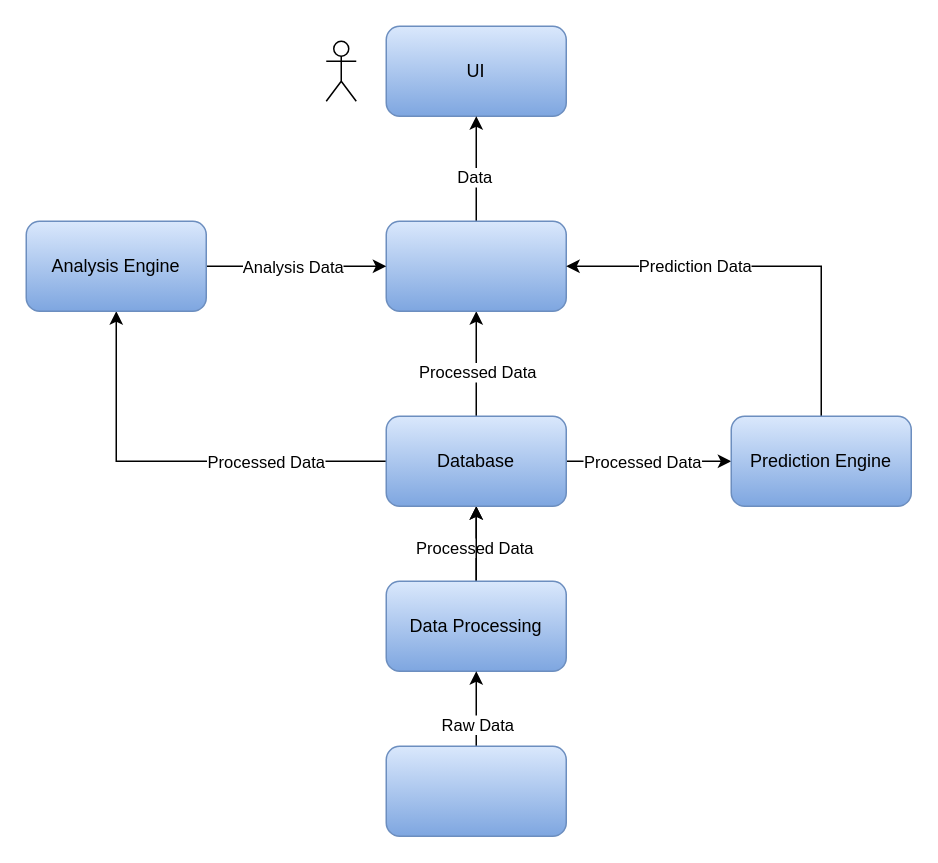
This 938x863 diagram has some shape labels left out. Each missing label, with the centre of its shape:
"Data Ingestion" goes at point 475,790.
"Search" goes at point 475,265.
"User" goes at point 340,70.
